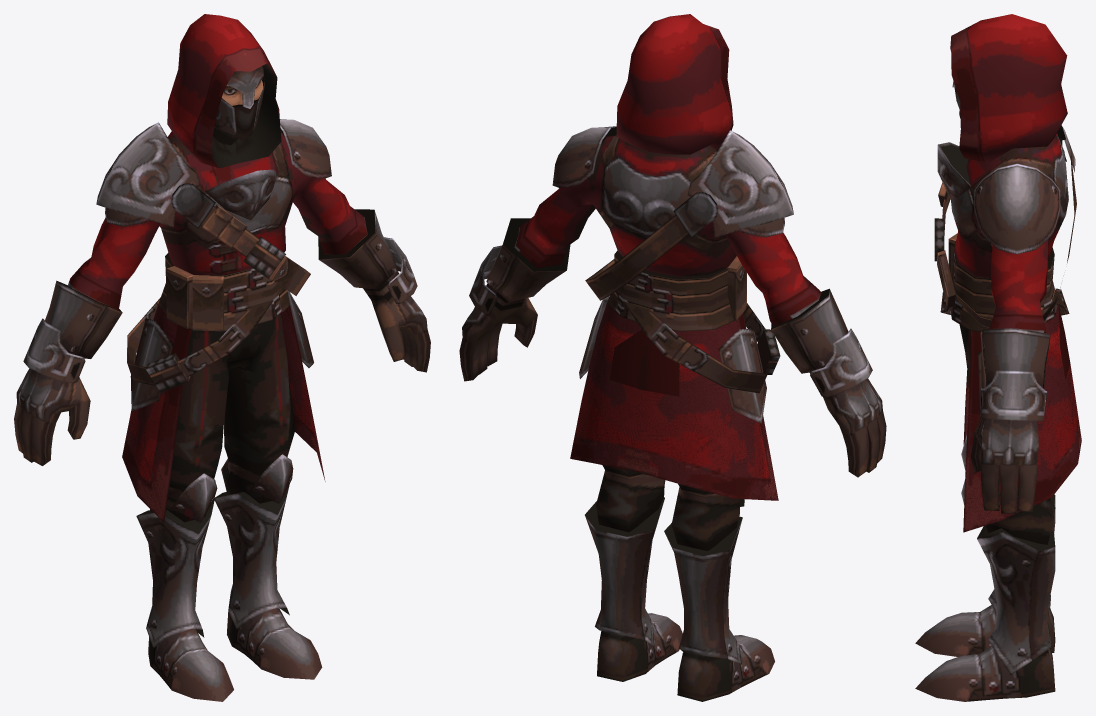
Rendered from hum_vanquisher_01_e0f678a7.glb.
3 renders of one model, left to right at view 1: azimuth 30°, elevation 25°; view 2: azimuth 150°, elevation 25°; view 3: azimuth 270°, elevation 25°, orthographic. The views are drawn at different scales.
Size of the model in its own units: 1.7 by 2.63 by 0.6089.
Materials: 1 (1 with a texture image).
